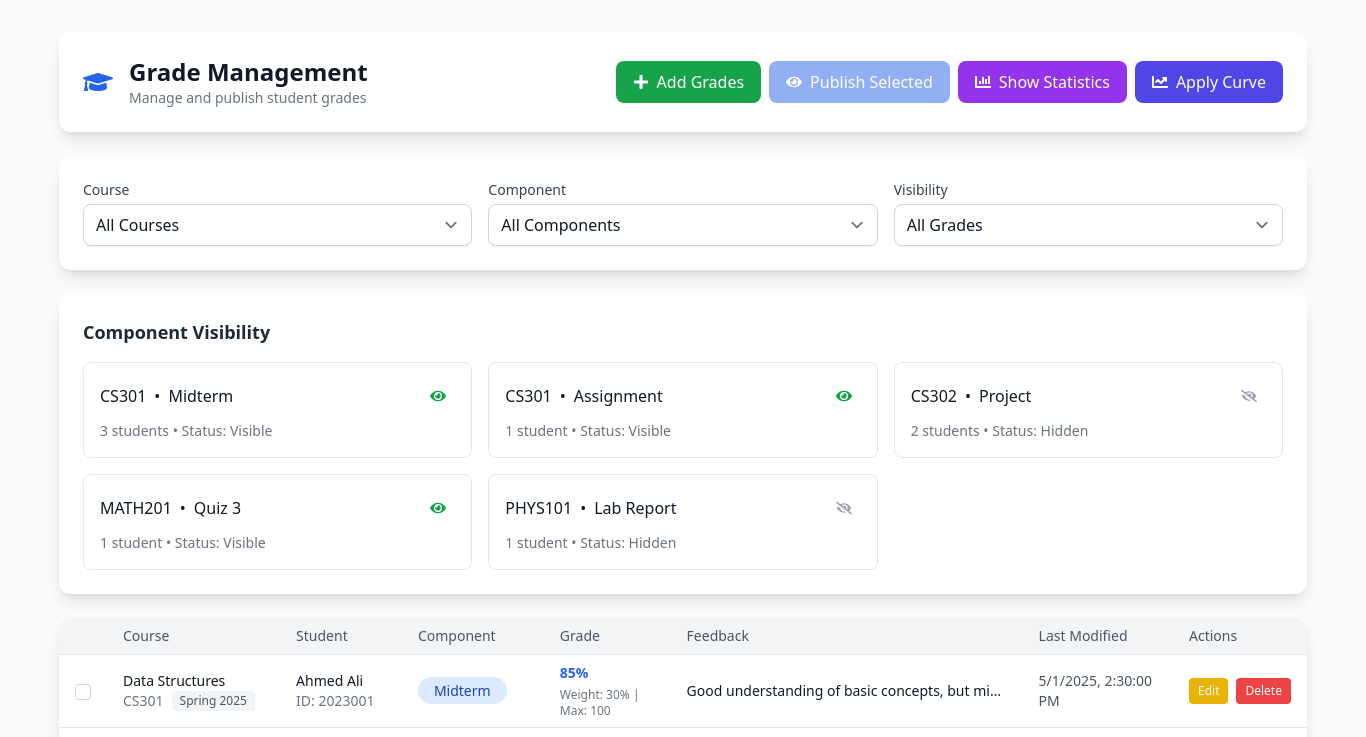
Scenario: GradeList (faculty) › opens and hides statistics panel
Click the button "Show Statistics" at (1042, 82), box [958, 61, 1127, 103]
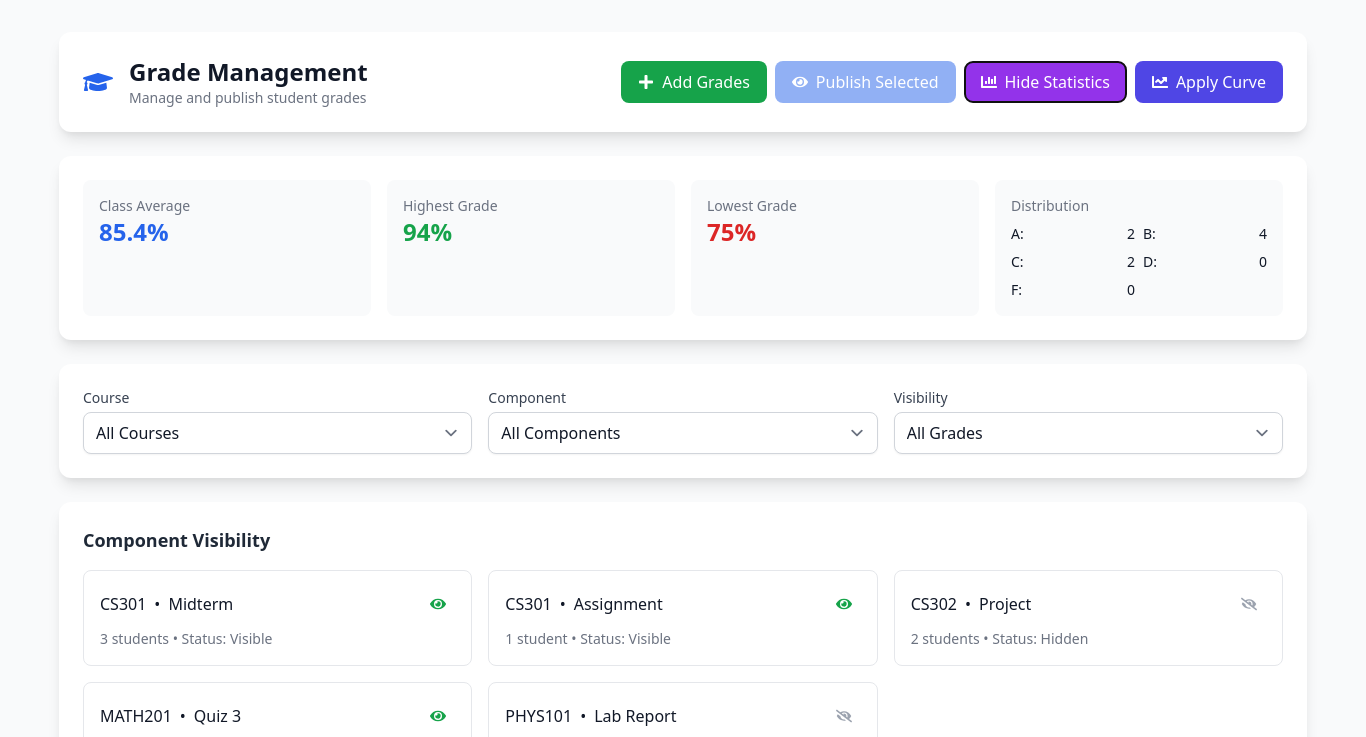
Now the text "Class Average" is shown, box [99, 196, 190, 215]
Click the button "Hide Statistics" at (1045, 82), box [964, 61, 1127, 103]
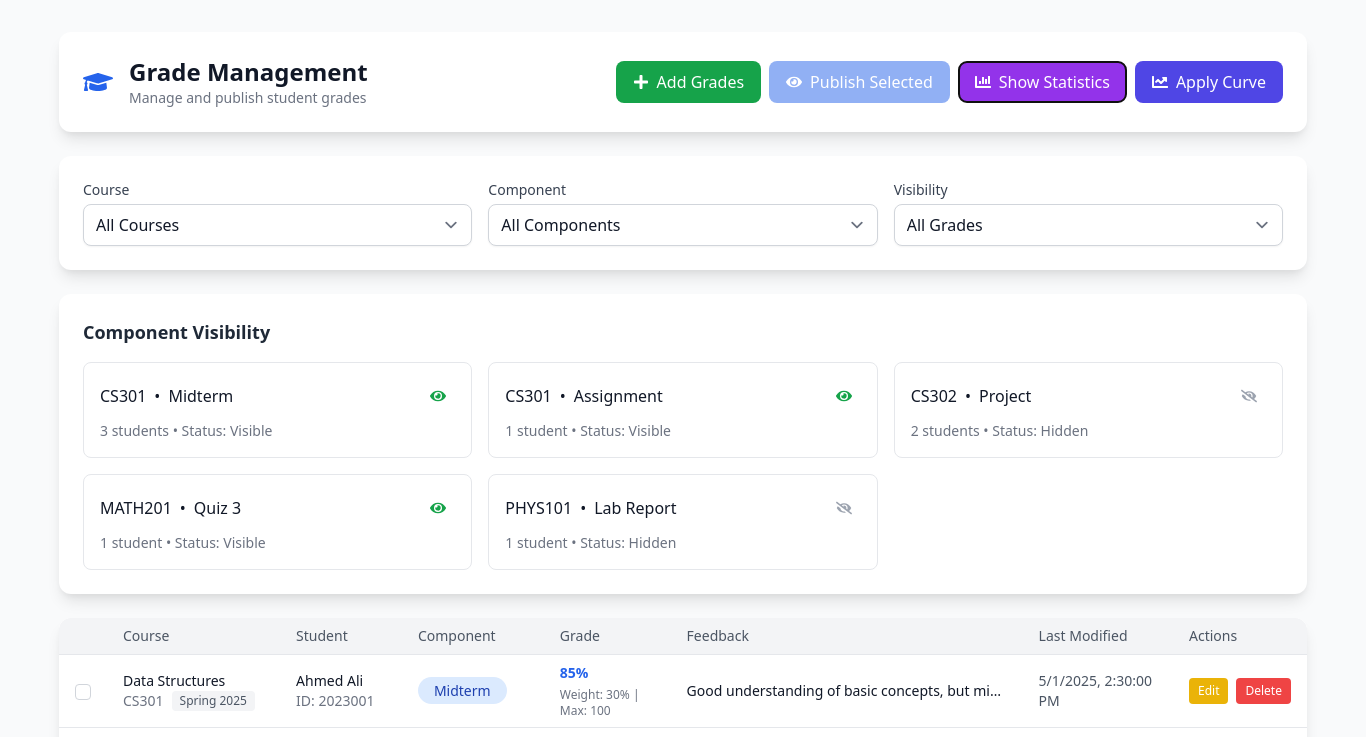
Now the text "Class Average" is gone
